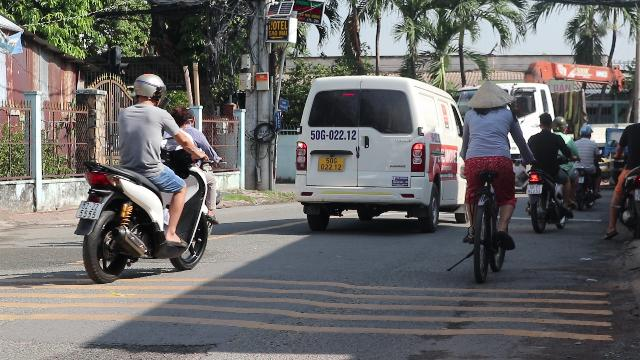helmet: (130, 72, 166, 106)
licenseplate: (76, 201, 102, 219), (526, 185, 542, 194)
motorcyclist: (72, 71, 220, 283), (524, 110, 572, 231)
nohelmet: (538, 112, 554, 131)
